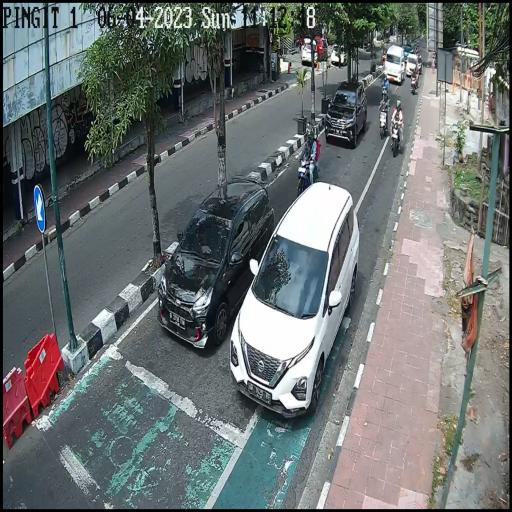mobil: (234, 187, 359, 422), (154, 176, 276, 351), (324, 82, 368, 148), (384, 44, 406, 86), (406, 54, 419, 76)
motor: (295, 152, 320, 195), (390, 116, 405, 158), (378, 102, 390, 140), (410, 75, 418, 96)
